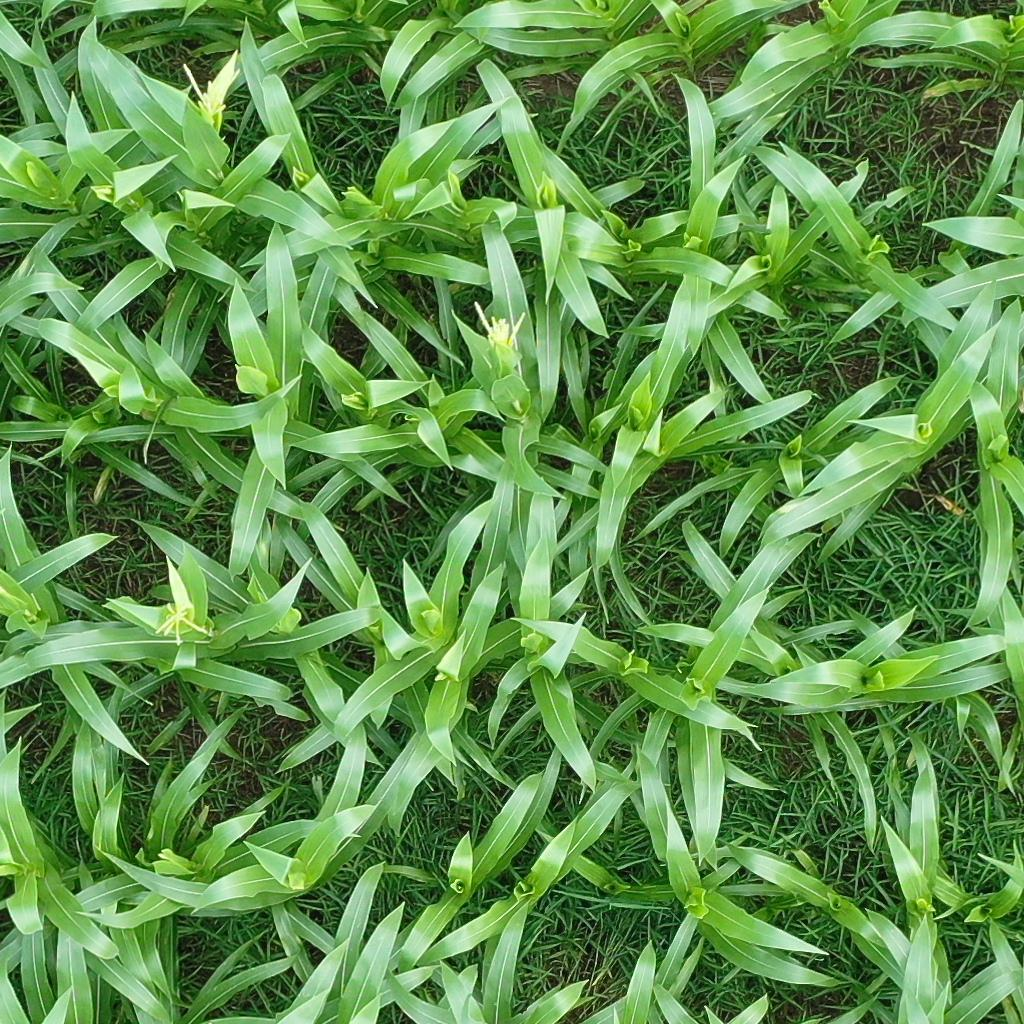Tassel: (180, 62, 228, 125), (471, 302, 527, 355), (159, 601, 211, 647), (91, 183, 116, 198)
